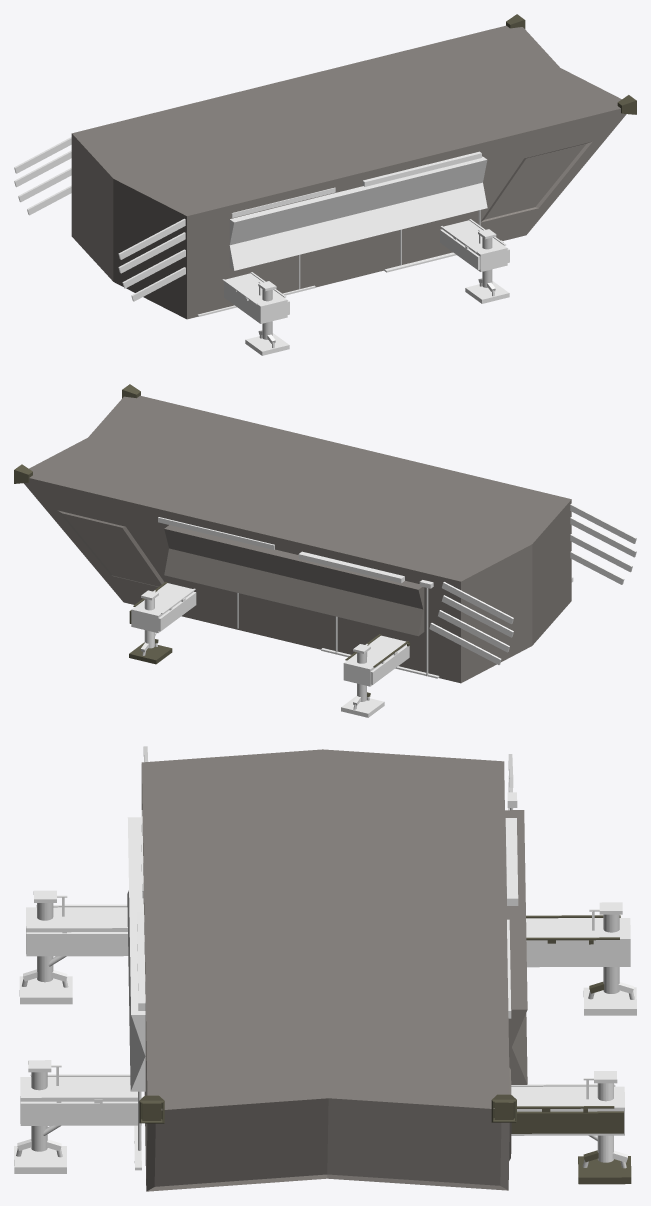
File: Romskip(Visning)2.glb
The picture shows the model from 3 angles, top to bottom: view 1: azimuth 30°, elevation 25°; view 2: azimuth 150°, elevation 25°; view 3: azimuth 270°, elevation 25°; orthographic projection. The views are drawn at different scales.
Parts seen in each view (by area): view 1: Cube.992; view 2: Cube.992; view 3: Cube.992.
Boxes of the visible parts, bbox=[...] form: Cube.992: bbox=[14, 14, 636, 355]; Cube.992: bbox=[14, 384, 636, 717]; Cube.992: bbox=[14, 746, 636, 1191].
Bounding box in the file's own units: 21.46 × 5.05 × 14.08.
